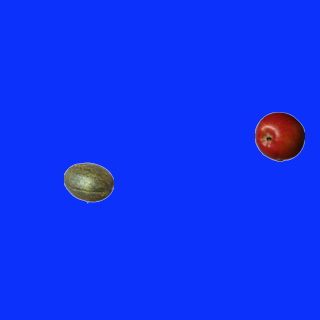Apple Braeburn: (254, 111, 304, 161)
Melon Piel de Sapo: (63, 157, 113, 207)
